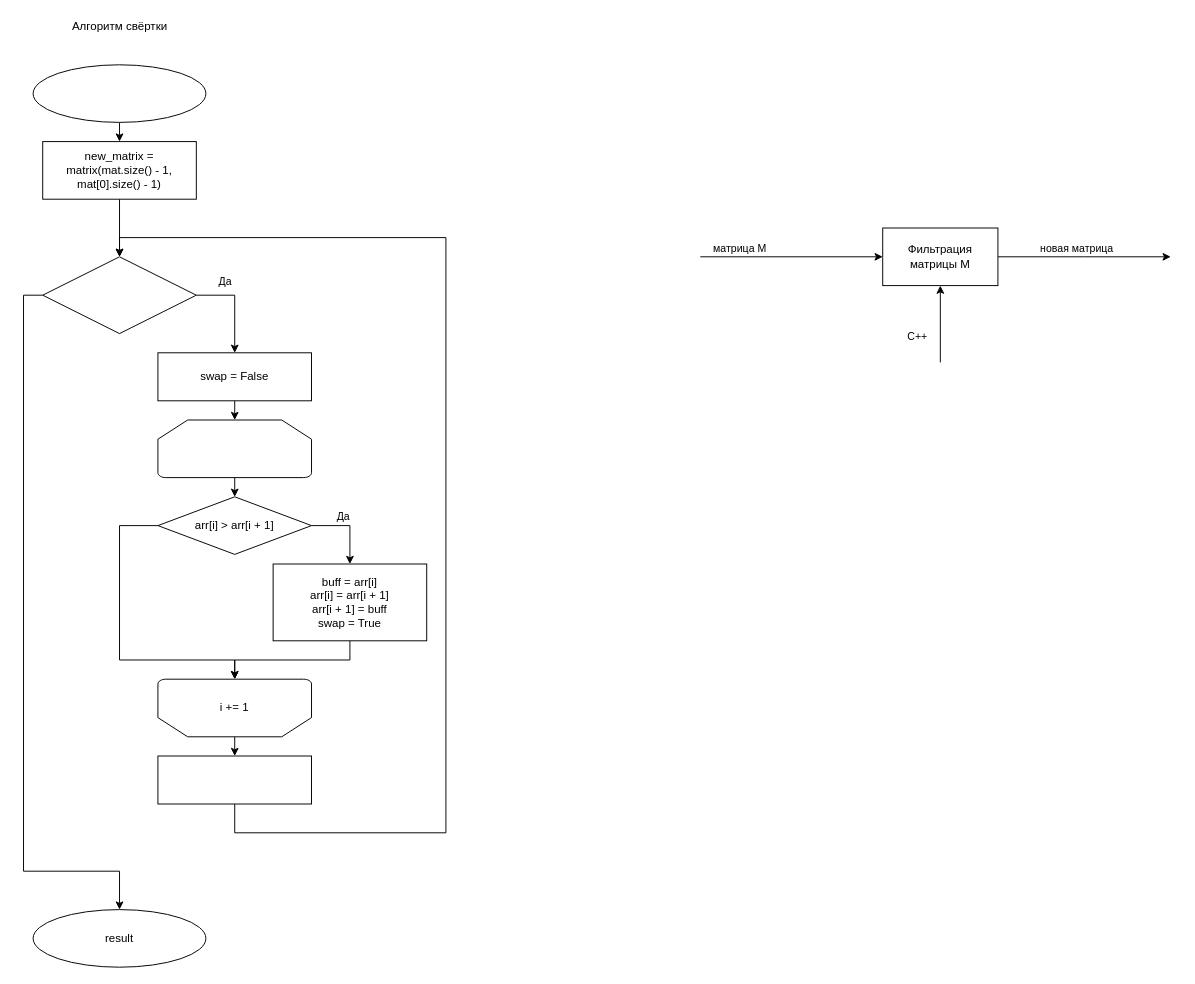
Image size: 1195x984. Some labels were removed from this diagram. Here are the shapes that lost their labels. From the top down, the centre of each, then its label:
At pixel 119 93: "Matrix: mat".
At pixel 119 295: "swap == True".
At pixel 234 448: "Цикл i от 0 до size".
At pixel 234 779: "size -= 1".
